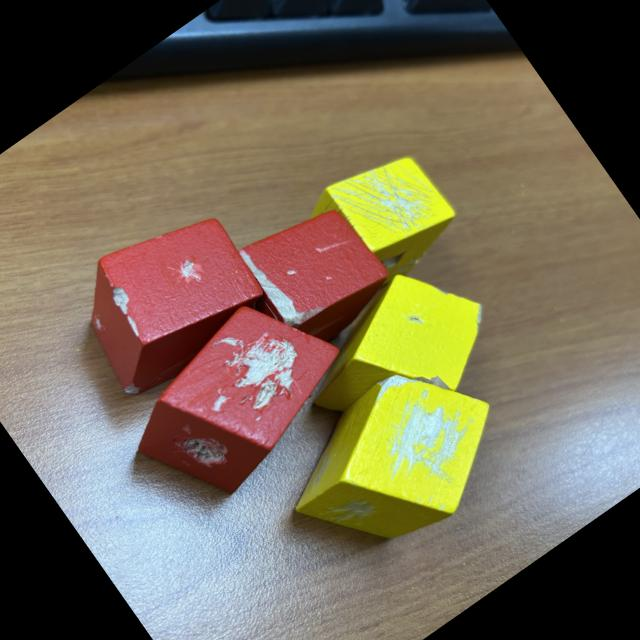broken: (102, 272, 374, 524), (261, 334, 531, 587), (279, 242, 515, 462), (52, 188, 278, 406), (220, 186, 402, 367), (296, 134, 469, 304)
